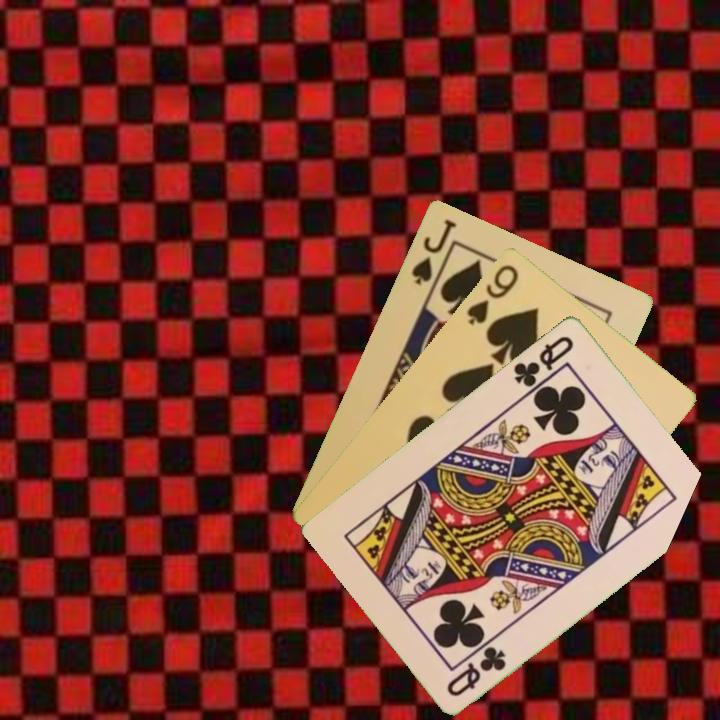9s: (463, 260, 522, 328)
Js: (407, 215, 459, 287)
Qc: (510, 331, 577, 390), (443, 641, 509, 699)
